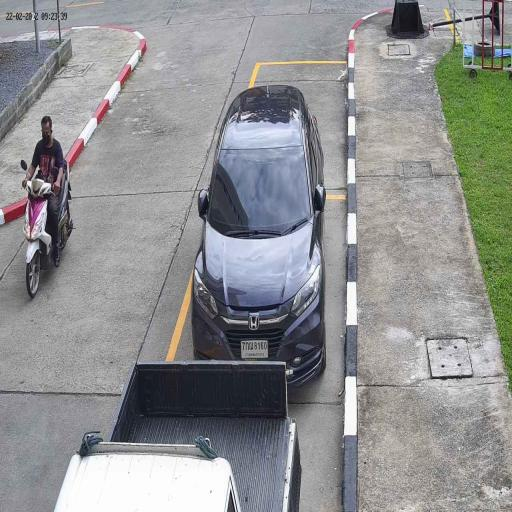car: (190, 83, 326, 391), (54, 361, 302, 512)
motorcycle: (22, 176, 72, 299)
